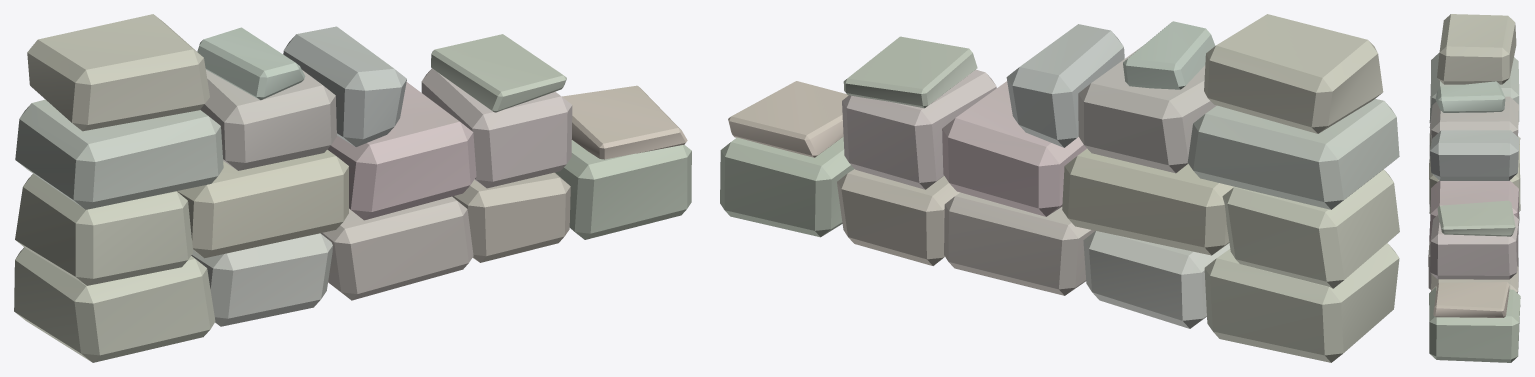
Rendered from remate.glb.
3 views of the same model, side by side, from view 1: azimuth 30°, elevation 25°; view 2: azimuth 150°, elevation 25°; view 3: azimuth 270°, elevation 25° (orthographic). The views are drawn at different scales.
Parts seen in each view (by area): view 1: Piedra_10_tercer_escalon_1, Piedra_13_remate_superior, Piedra_01_base_1, Piedra_06_segundo_escalon_1, Piedra_07_segundo_escalon_2, Piedra_08_segundo_escalon_3, Piedra_03_base_3, Piedra_05_base_5, Piedra_09_segundo_escalon_4, Piedra_11_tercer_escalon_2, Piedra_02_base_2, Piedra_12_tercer_escalon_3 (+4 smaller); view 2: Piedra_10_tercer_escalon_1, Piedra_13_remate_superior, Piedra_01_base_1, Piedra_06_segundo_escalon_1, Piedra_07_segundo_escalon_2, Piedra_08_segundo_escalon_3, Piedra_03_base_3, Piedra_05_base_5, Piedra_11_tercer_escalon_2, Piedra_09_segundo_escalon_4, Piedra_02_base_2, Piedra_12_tercer_escalon_3 (+4 smaller); view 3: Piedra_13_remate_superior, Piedra_05_base_5, Piedra_12_tercer_escalon_3, Piedra_09_segundo_escalon_4, Piedra_15_laja_ultimo, Piedra_14_laja_segundo, Piedra_08_segundo_escalon_3, Piedra_11_tercer_escalon_2, Piedra_16_fractura_superior, Piedra_10_tercer_escalon_1, Piedra_04_base_4, Piedra_07_segundo_escalon_2 (+1 smaller).
Boxes of the visible parts, left/top/right/bottom form: Piedra_10_tercer_escalon_1: left=15, top=99, right=223, bottom=209; Piedra_13_remate_superior: left=27, top=14, right=209, bottom=131; Piedra_01_base_1: left=14, top=247, right=215, bottom=362; Piedra_06_segundo_escalon_1: left=15, top=174, right=193, bottom=285; Piedra_07_segundo_escalon_2: left=177, top=149, right=348, bottom=258; Piedra_08_segundo_escalon_3: left=327, top=82, right=476, bottom=220; Piedra_03_base_3: left=320, top=196, right=473, bottom=300; Piedra_05_base_5: left=555, top=140, right=691, bottom=239; Piedra_09_segundo_escalon_4: left=421, top=68, right=572, bottom=188; Piedra_11_tercer_escalon_2: left=200, top=43, right=336, bottom=170; Piedra_02_base_2: left=191, top=233, right=332, bottom=326; Piedra_12_tercer_escalon_3: left=283, top=26, right=406, bottom=146; Piedra_10_tercer_escalon_1: left=1187, top=99, right=1399, bottom=209; Piedra_13_remate_superior: left=1204, top=14, right=1383, bottom=133; Piedra_01_base_1: left=1204, top=243, right=1399, bottom=362; Piedra_06_segundo_escalon_1: left=1222, top=169, right=1399, bottom=288; Piedra_07_segundo_escalon_2: left=1062, top=148, right=1234, bottom=255; Piedra_08_segundo_escalon_3: left=942, top=81, right=1086, bottom=216; Piedra_03_base_3: left=944, top=192, right=1094, bottom=295; Piedra_05_base_5: left=720, top=137, right=854, bottom=237; Piedra_11_tercer_escalon_2: left=1078, top=45, right=1216, bottom=173; Piedra_09_segundo_escalon_4: left=842, top=69, right=996, bottom=189; Piedra_02_base_2: left=1083, top=231, right=1230, bottom=328; Piedra_12_tercer_escalon_3: left=1006, top=24, right=1124, bottom=147; Piedra_13_remate_superior: left=1437, top=14, right=1516, bottom=84; Piedra_05_base_5: left=1429, top=287, right=1520, bottom=362; Piedra_12_tercer_escalon_3: left=1430, top=130, right=1519, bottom=180; Piedra_09_segundo_escalon_4: left=1430, top=214, right=1518, bottom=279; Piedra_15_laja_ultimo: left=1433, top=282, right=1509, bottom=317; Piedra_14_laja_segundo: left=1437, top=200, right=1515, bottom=236; Piedra_08_segundo_escalon_3: left=1429, top=180, right=1518, bottom=242; Piedra_11_tercer_escalon_2: left=1429, top=96, right=1518, bottom=142; Piedra_16_fractura_superior: left=1435, top=81, right=1505, bottom=112; Piedra_10_tercer_escalon_1: left=1429, top=52, right=1519, bottom=122; Piedra_04_base_4: left=1431, top=266, right=1518, bottom=293; Piedra_07_segundo_escalon_2: left=1429, top=136, right=1520, bottom=207.
Size of the model in its own units: 2 by 0.88 by 0.42.
